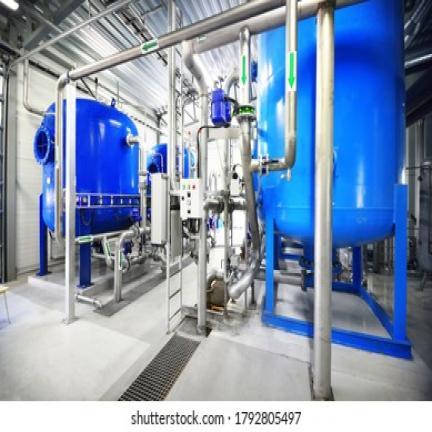besi_tidak_karat: (69, 0, 284, 80), (313, 0, 336, 401)
